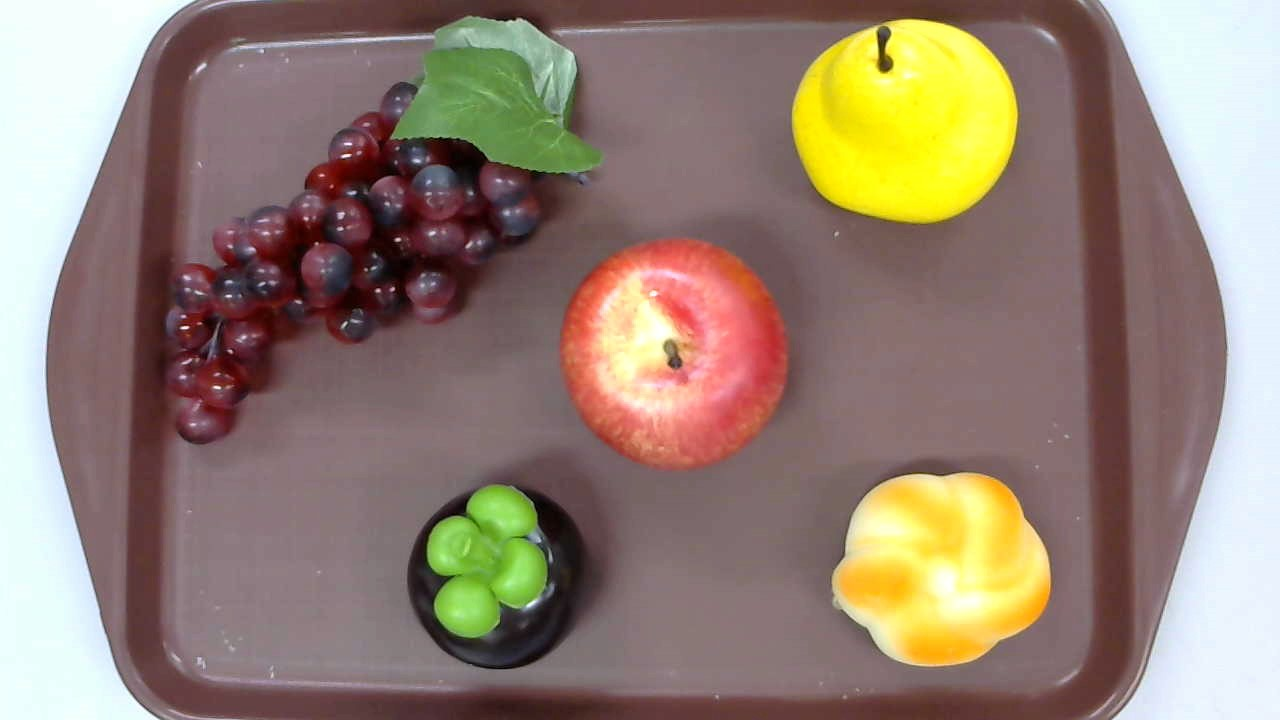grape: (166, 16, 603, 447)
mangosteen: (406, 482, 589, 671)
red apple: (560, 238, 789, 473)
twist bread: (830, 472, 1052, 668)
yellow pear: (789, 18, 1019, 224)
